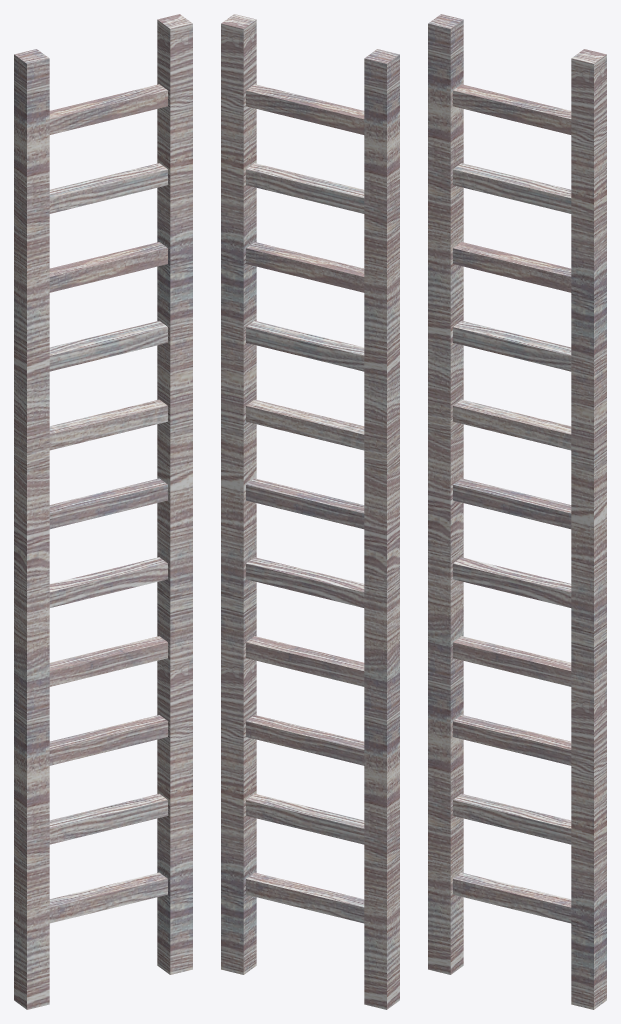
File: ladder.obj
The picture shows the model from 3 angles, left to right: view 1: azimuth 30°, elevation 25°; view 2: azimuth 150°, elevation 25°; view 3: azimuth 330°, elevation 25°; orthographic projection.
Parts seen in each view (by area): view 1: RailL, RailR, Rung6, Rung9, Rung1, Rung3, Rung4, Rung5, Rung8, Rung10, Rung2, Rung7 (+1 smaller); view 2: RailL, RailR, Rung6, Rung9, Rung1, Rung3, Rung4, Rung5, Rung8, Rung10, Rung2, Rung7 (+1 smaller); view 3: RailR, RailL, Rung6, Rung9, Rung1, Rung3, Rung4, Rung5, Rung8, Rung10, Rung2, Rung7 (+1 smaller).
Part boxes in pixels (box(x1,y1,x2,y2)): RailL: box(14, 49, 49, 1009); RailR: box(157, 14, 192, 974); Rung6: box(49, 478, 167, 529); Rung9: box(49, 242, 167, 292); Rung1: box(49, 872, 167, 923); Rung3: box(49, 715, 167, 765); Rung4: box(49, 636, 167, 686); Rung5: box(49, 557, 167, 607); Rung8: box(49, 320, 167, 371); Rung10: box(49, 163, 167, 213); Rung2: box(49, 793, 167, 844); Rung7: box(49, 399, 167, 450); RailL: box(364, 49, 399, 1009); RailR: box(221, 14, 256, 974); Rung6: box(246, 478, 364, 529); Rung9: box(246, 242, 364, 292); Rung1: box(246, 872, 364, 923); Rung3: box(246, 715, 364, 765); Rung4: box(246, 636, 364, 686); Rung5: box(246, 557, 364, 607); Rung8: box(246, 320, 364, 371); Rung10: box(246, 163, 364, 213); Rung2: box(246, 793, 364, 844); Rung7: box(246, 399, 364, 450); RailR: box(571, 49, 606, 1009); RailL: box(428, 14, 463, 974); Rung6: box(453, 478, 571, 529); Rung9: box(453, 242, 571, 292); Rung1: box(453, 872, 571, 923); Rung3: box(453, 715, 571, 765); Rung4: box(453, 636, 571, 686); Rung5: box(453, 557, 571, 607); Rung8: box(453, 320, 571, 371); Rung10: box(453, 163, 571, 213); Rung2: box(453, 793, 571, 844); Rung7: box(453, 399, 571, 450).
Bounding box in the file's own units: 2.2 × 12 × 0.3.
